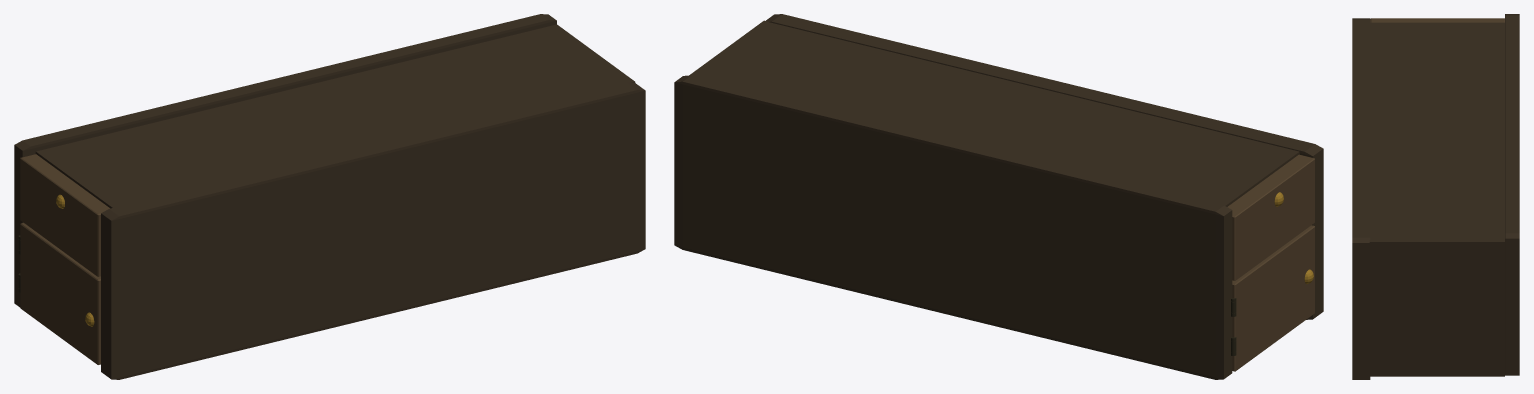
Rendered from drawer_L.fbx.
3 renders of one model, left to right at view 1: azimuth 30°, elevation 25°; view 2: azimuth 150°, elevation 25°; view 3: azimuth 270°, elevation 25°, orthographic. The views are drawn at different scales.
Parts seen in each view (by area): view 1: Cube.005; view 2: Cube.005; view 3: Cube.005.
Boxes of the visible parts, bbox=[...] form: Cube.005: bbox=[14, 14, 645, 379]; Cube.005: bbox=[674, 14, 1323, 379]; Cube.005: bbox=[1352, 14, 1519, 379].
Size of the model in its own units: 201 by 59.74 by 62.4.
